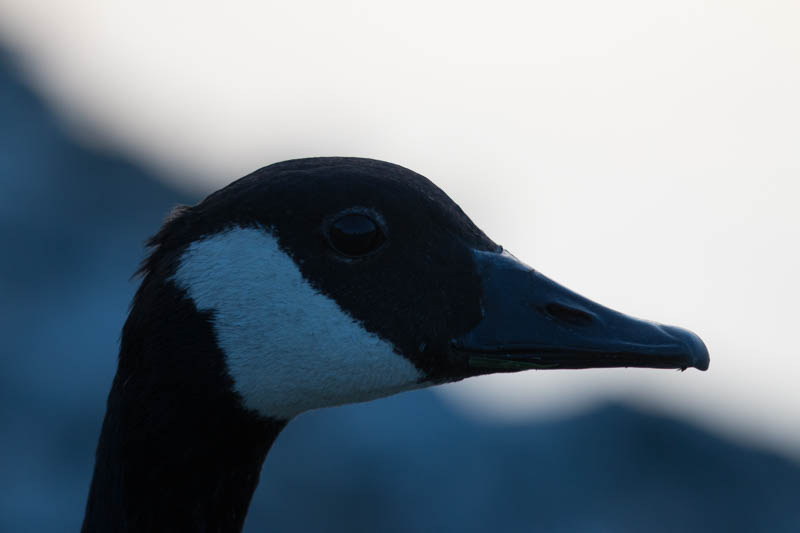goose-head: (115, 157, 711, 421)
